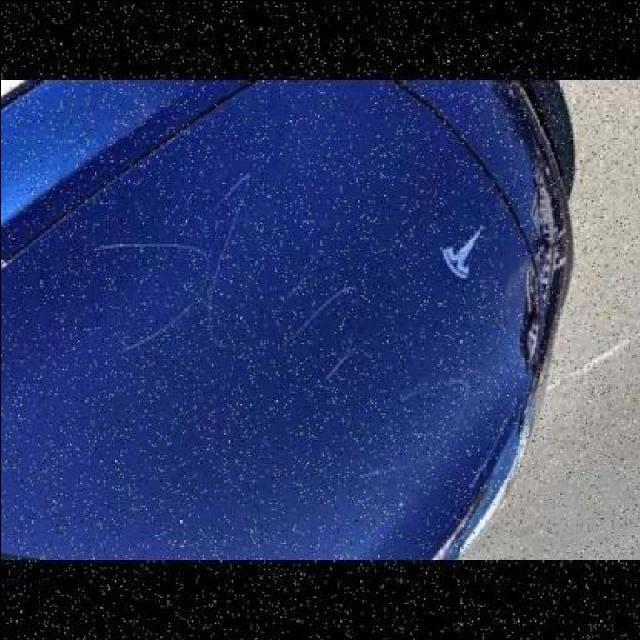bonnet-dent: (24, 155, 522, 564)
